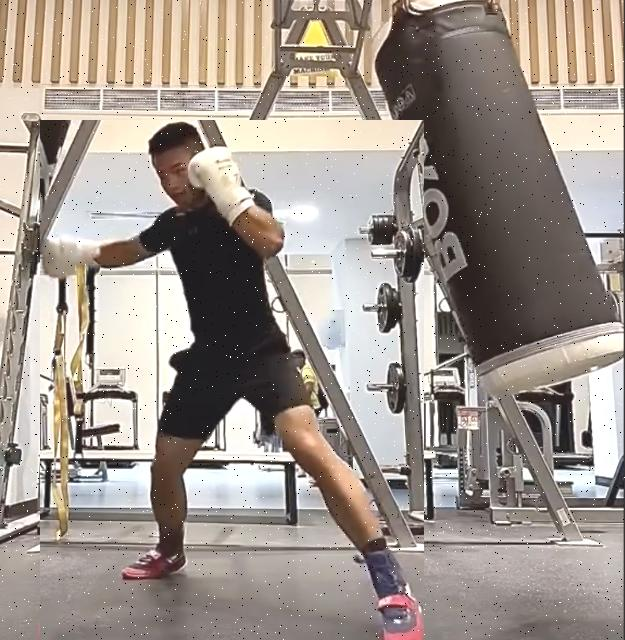punch: (40, 120, 424, 640)
